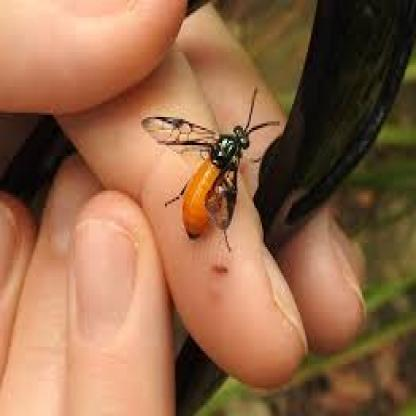sawfly: (153, 79, 283, 256)
